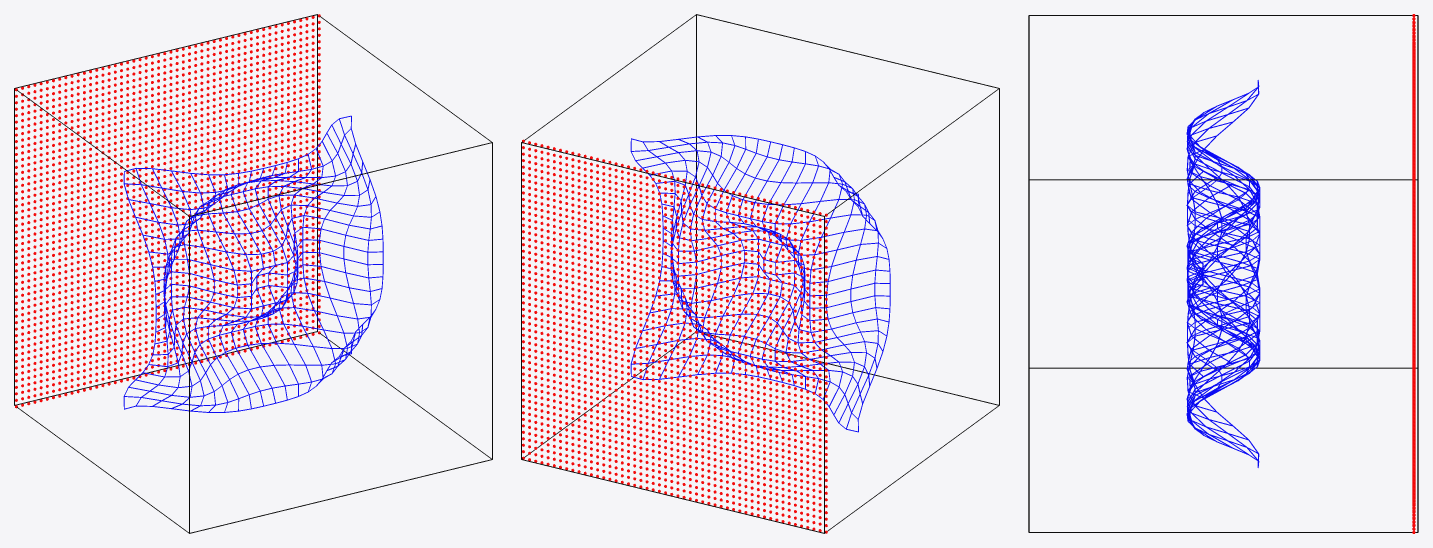
Rendered from wave.glb.
3 views of the same model, side by side, from view 1: azimuth 30°, elevation 25°; view 2: azimuth 150°, elevation 25°; view 3: azimuth 270°, elevation 25° (orthographic). The views are drawn at different scales.
Bounding box in the file's own units: 2.02 × 2.02 × 2.01.
